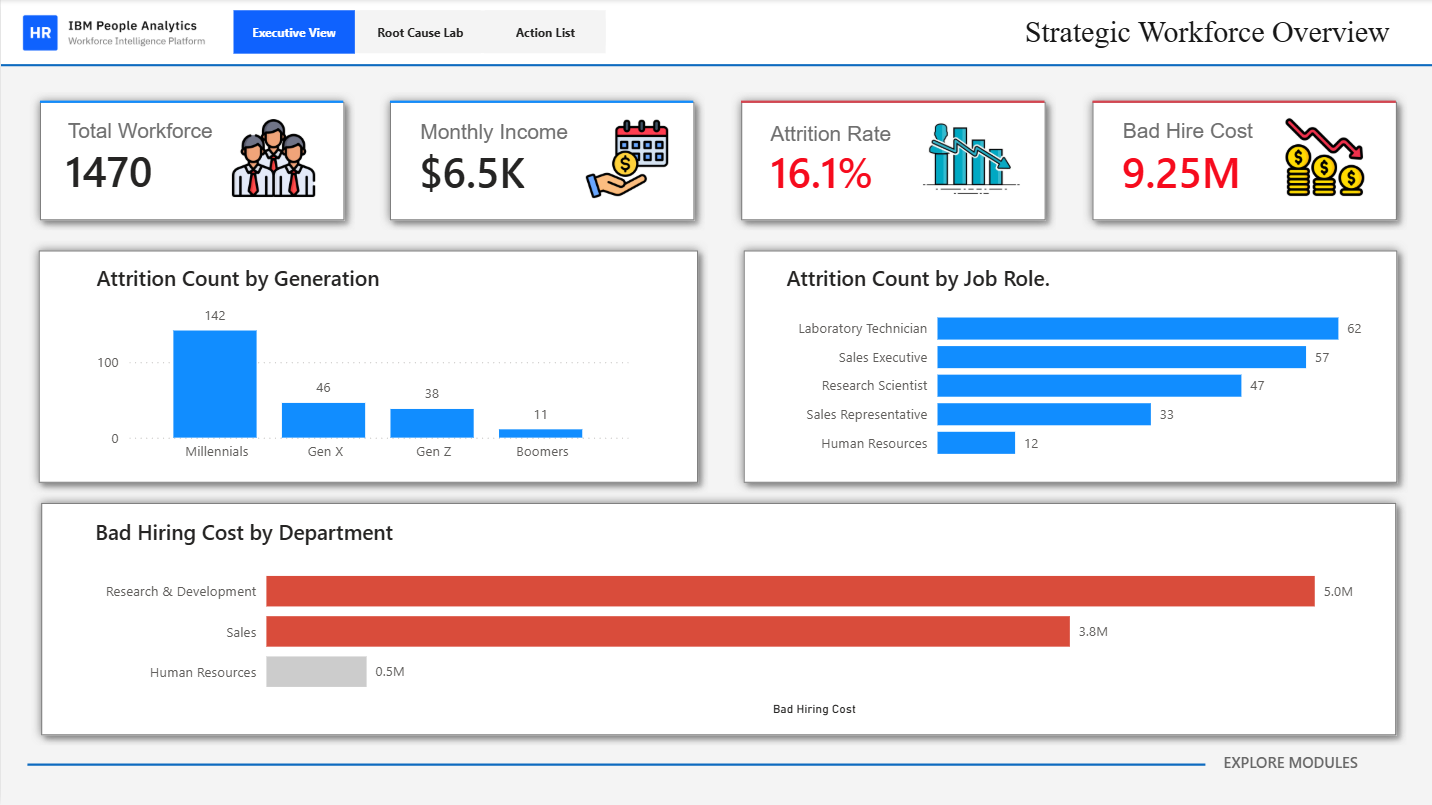

The dashboard page shown, as its layout file describes it:
{"tool":"powerbi","page":{"name":"01_Executive","canvas":[1280,720],"ordinal":1},"visuals":[{"type":"shape","box":[0,0,1280,60],"z":0},{"type":"shape","box":[25.7,82.3,290.1,124.1],"z":1000,"group":"g5"},{"type":"shape","box":[338.8,82.3,290.1,124.1],"z":1000,"group":"g6"},{"type":"shape","box":[652.7,82.3,290.1,124.1],"z":1000,"group":"g7"},{"type":"shape","box":[965.8,82.3,290.1,124.1],"z":1000,"group":"g8"},{"type":"shape","box":[24.1,216,607.1,225.7],"z":1000,"group":"g9"},{"type":"shape","box":[27.1,441.4,1228.6,225.7],"z":2000,"group":"g12"},{"type":"shape","box":[24.6,647.6,1053,72.6],"z":3000},{"type":"textbox","box":[1076.2,667.5,151.2,33.8],"z":4000},{"type":"image","box":[8.8,7.5,183.8,45],"z":5000},{"type":"shape","box":[0,49.1,1280,20],"z":6000},{"type":"shape","box":[208,10.5,332.5,38.5],"z":7000},{"type":"actionButton","box":[207.6,10.4,108.4,38.8],"z":8000},{"type":"actionButton","box":[320,10.3,108.3,38.7],"z":9000},{"type":"actionButton","box":[432.2,10.4,108.3,38.7],"z":10000},{"type":"textbox","box":[898.6,10,357.1,40],"z":11000},{"type":"group","id":"g1","title":"Group 7","box":[25.7,82.2,1230.2,124.4],"z":12000},{"type":"group","id":"g2","title":"Group 5","box":[25.7,82.2,290.1,123.5],"z":12000,"group":"g13"},{"type":"clusteredColumnChart","title":"Attrition Count by Generation","fields":{"Category":["vw_hr_master.Generation"],"Y":["Sum(vw_hr_master.Attrition_Count)"]},"box":[79.6,236.8,486.1,185.3],"z":12000,"group":"g9"},{"type":"group","id":"g3","title":"Group 2","box":[338.8,82.2,290.8,124.4],"z":13000,"group":"g1"},{"type":"group","id":"g4","title":"Group 5","box":[965.8,82.2,290.1,123.5],"z":13000,"group":"g11"},{"type":"group","id":"g5","title":"Group 1","box":[25.7,82.3,290.1,123.5],"z":13000,"group":"g2"},{"type":"group","id":"g6","title":"Group 1","box":[338.8,82.3,290.1,123.5],"z":13000,"group":"g14"},{"type":"group","id":"g7","title":"Group 1","box":[652.7,82.3,290.1,123.5],"z":13000,"group":"g10"},{"type":"group","id":"g8","title":"Group 1","box":[965.8,82.3,290.1,123.5],"z":13000,"group":"g4"},{"type":"group","id":"g9","title":"Group 8","box":[24.1,216,1231.6,225.8],"z":13000},{"type":"shape","box":[653.7,216.1,602.1,225.7],"z":13000,"group":"g9"},{"type":"group","id":"g10","title":"Group 5","box":[652.7,82.2,290.1,123.5],"z":14000,"group":"g15"},{"type":"group","id":"g11","title":"Group 3","box":[965.8,82.2,290.1,123.5],"z":14000,"group":"g1"},{"type":"clusteredBarChart","title":"Attrition Count by Job Role.","fields":{"Category":["vw_hr_master.JobRole"],"Y":["Sum(vw_hr_master.Attrition_Count)"]},"box":[696.7,237,525.4,185.7],"z":14000,"group":"g9"},{"type":"clusteredBarChart","fields":{"Category":["vw_hr_master.Department"],"Y":["_Key Measures.Bad Hiring Cost"]},"box":[79.6,463.7,1142.3,182],"z":14000,"group":"g12"},{"type":"group","id":"g12","title":"Group 9","box":[27.1,441.4,1228.6,225.7],"z":14001},{"type":"group","id":"g13","title":"Group 4","box":[25.7,82.2,290.1,123.5],"z":15000,"group":"g1"},{"type":"group","id":"g14","title":"Group 5","box":[338.8,82.2,290.1,123.5],"z":15000,"group":"g3"},{"type":"image","box":[200.3,104.1,87.3,74.4],"z":15000,"group":"g13"},{"type":"group","id":"g15","title":"Group 6","box":[652.7,82.2,290.1,123.5],"z":16000,"group":"g1"},{"type":"textbox","box":[54.8,102,153.5,36],"z":16000,"group":"g2"},{"type":"textbox","box":[997,102.1,135.4,32.3],"z":16000,"group":"g4"},{"type":"image","box":[814.2,102.5,101.6,83],"z":16000,"group":"g15"},{"type":"textbox","box":[370.4,103.3,150.1,31.7],"z":16000,"group":"g14"},{"type":"textbox","box":[682.7,104,135.5,37.3],"z":16000,"group":"g10"},{"type":"shape","box":[35,82.2,271.3,18.3],"z":17000,"group":"g2"},{"type":"shape","box":[348.1,82.2,271.3,18.3],"z":17000,"group":"g14"},{"type":"shape","box":[662,82.2,271.3,18.3],"z":17000,"group":"g10"},{"type":"shape","box":[975.1,82.2,271.3,18.3],"z":17000,"group":"g4"},{"type":"image","box":[1137.5,105.7,90,70.1],"z":17000,"group":"g11"},{"type":"cardVisual","fields":{"Data":["_Key Measures.Total Employees"]},"box":[54.7,110.6,135.1,82.3],"z":18000,"group":"g2"},{"type":"cardVisual","fields":{"Data":["Avg(vw_hr_master.MonthlyIncome)"]},"box":[370.7,110.8,135.1,82.3],"z":18000,"group":"g14"},{"type":"cardVisual","fields":{"Data":["_Key Measures.Attrition Rate"]},"box":[684.6,110.8,135.1,82.3],"z":18000,"group":"g10"},{"type":"cardVisual","fields":{"Data":["_Key Measures.Bad Hiring Cost"]},"box":[997.7,110.8,135.1,82.3],"z":18000,"group":"g4"},{"type":"image","box":[520,105.2,80.3,73.4],"z":19000,"group":"g3"}]}

Visuals, with their boxes in screenshot pixels (x1, y1, x2, y2), scaled from the page's 1280x720 canvas onto the 1432x805 screenshot:
shape: 0 0 1431 67
shape: 29 92 353 231
shape: 379 92 704 231
shape: 730 92 1055 231
shape: 1080 92 1405 231
shape: 27 242 706 494
shape: 30 494 1405 746
shape: 28 724 1206 804
textbox: 1204 746 1373 784
image: 10 8 215 59
shape: 0 55 1431 77
shape: 233 12 605 55
actionButton: 232 12 354 55
actionButton: 358 12 479 55
actionButton: 484 12 605 55
textbox: 1005 11 1405 56
"Group 7" group: 29 92 1405 231
"Group 5" group: 29 92 353 230
"Attrition Count by Generation" clusteredColumnChart: 89 265 633 472
"Group 2" group: 379 92 704 231
"Group 5" group: 1080 92 1405 230
"Group 1" group: 29 92 353 230
"Group 1" group: 379 92 704 230
"Group 1" group: 730 92 1055 230
"Group 1" group: 1080 92 1405 230
"Group 8" group: 27 242 1405 494
shape: 731 242 1405 494
"Group 5" group: 730 92 1055 230
"Group 3" group: 1080 92 1405 230
"Attrition Count by Job Role." clusteredBarChart: 779 265 1367 473
clusteredBarChart - vw_hr_master.Department x _Key Measures.Bad Hiring Cost: 89 518 1367 722
"Group 9" group: 30 494 1405 746
"Group 4" group: 29 92 353 230
"Group 5" group: 379 92 704 230
image: 224 116 322 200
"Group 6" group: 730 92 1055 230
textbox: 61 114 233 154
textbox: 1115 114 1267 150
image: 911 115 1025 207
textbox: 414 115 582 151
textbox: 764 116 915 158
shape: 39 92 343 112
shape: 389 92 693 112
shape: 741 92 1044 112
shape: 1091 92 1394 112
image: 1273 118 1373 197
cardVisual - _Key Measures.Total Employees: 61 124 212 216
cardVisual - Avg(vw_hr_master.MonthlyIncome): 415 124 566 216
cardVisual - _Key Measures.Attrition Rate: 766 124 917 216
cardVisual - _Key Measures.Bad Hiring Cost: 1116 124 1267 216
image: 582 118 672 200
